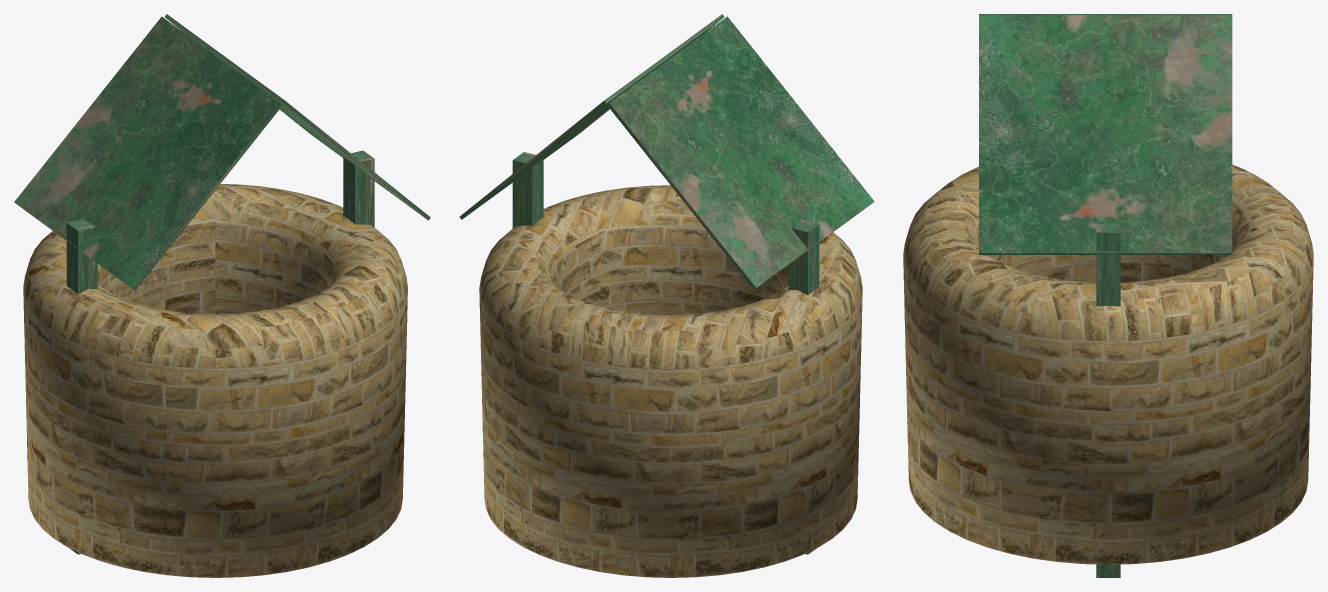
The model's file is well.glb.
3 renders of one model, left to right at view 1: azimuth 30°, elevation 25°; view 2: azimuth 150°, elevation 25°; view 3: azimuth 270°, elevation 25°, orthographic. The views are drawn at different scales.
Parts seen in each view (by area): view 1: Torus, Cube.002; view 2: Torus, Cube.002; view 3: Torus, Cube.002.
Boxes of the visible parts, x1=… form: Torus: x1=23, y1=184, x2=407, y2=577; Cube.002: x1=14, y1=14, x2=430, y2=554; Torus: x1=479, y1=185, x2=862, y2=577; Cube.002: x1=459, y1=14, x2=874, y2=554; Torus: x1=903, y1=164, x2=1313, y2=564; Cube.002: x1=979, y1=14, x2=1232, y2=577.
Bounding box in the file's own units: 2.5 × 3.28 × 2.5.
Materials: 2 (2 with a texture image).
